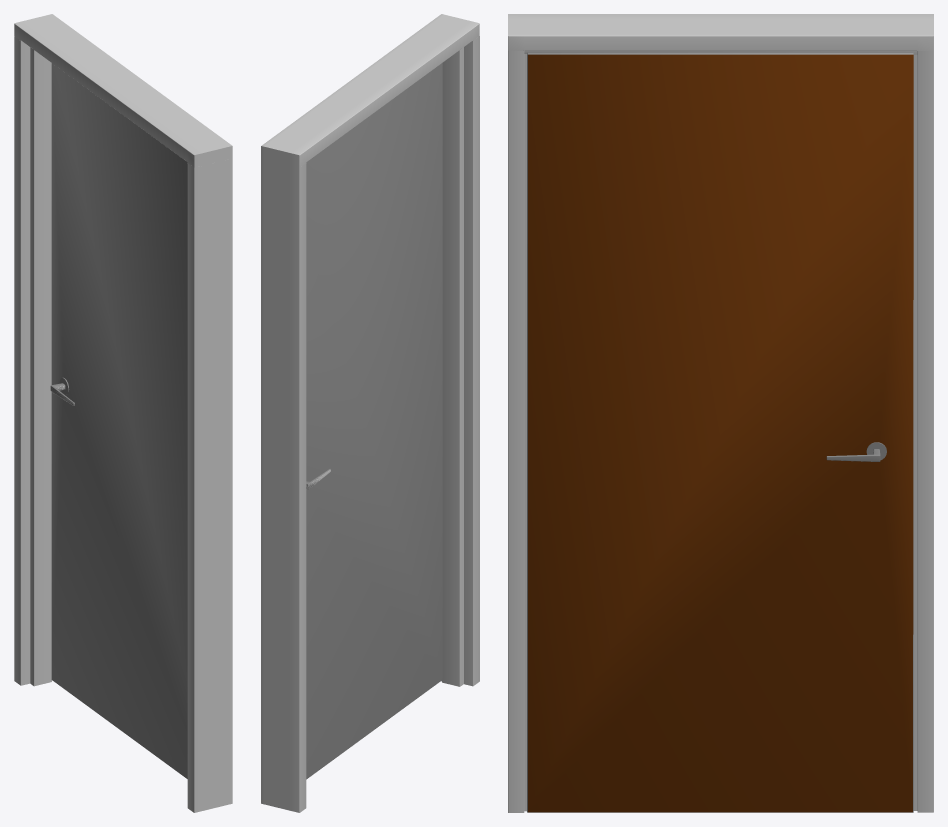
File: KuuraOvi.FBX
The picture shows the model from 3 angles, left to right: view 1: azimuth 30°, elevation 25°; view 2: azimuth 150°, elevation 25°; view 3: azimuth 270°, elevation 25°; orthographic projection. The views are drawn at different scales.
Visible parts, largest first — view 1: Box001, Karmi; view 2: Box001, Karmi; view 3: Box001, Karmi.
Part boxes in pixels (x1,y1,x2,y2): Box001: [51, 63, 187, 778]; Karmi: [14, 14, 232, 812]; Box001: [306, 63, 442, 779]; Karmi: [261, 14, 479, 812]; Box001: [527, 52, 913, 812]; Karmi: [508, 14, 933, 812].
Bounding box in the file's own units: 17.22 × 209 × 104.
